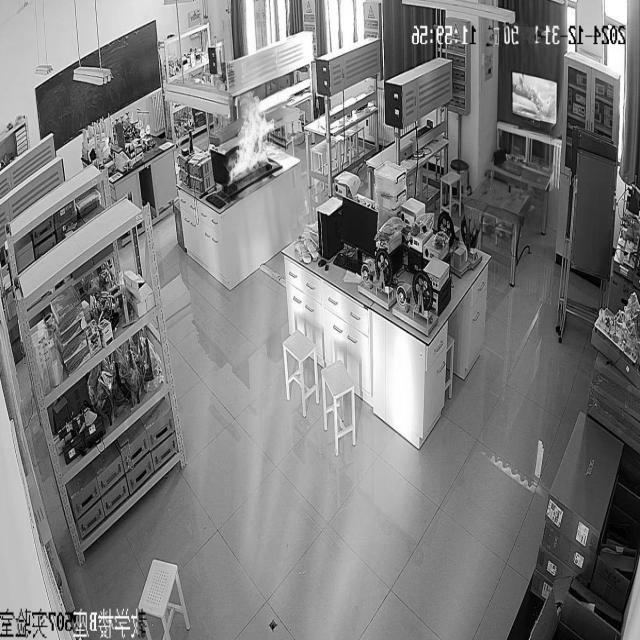smoke: (227, 87, 272, 186)
